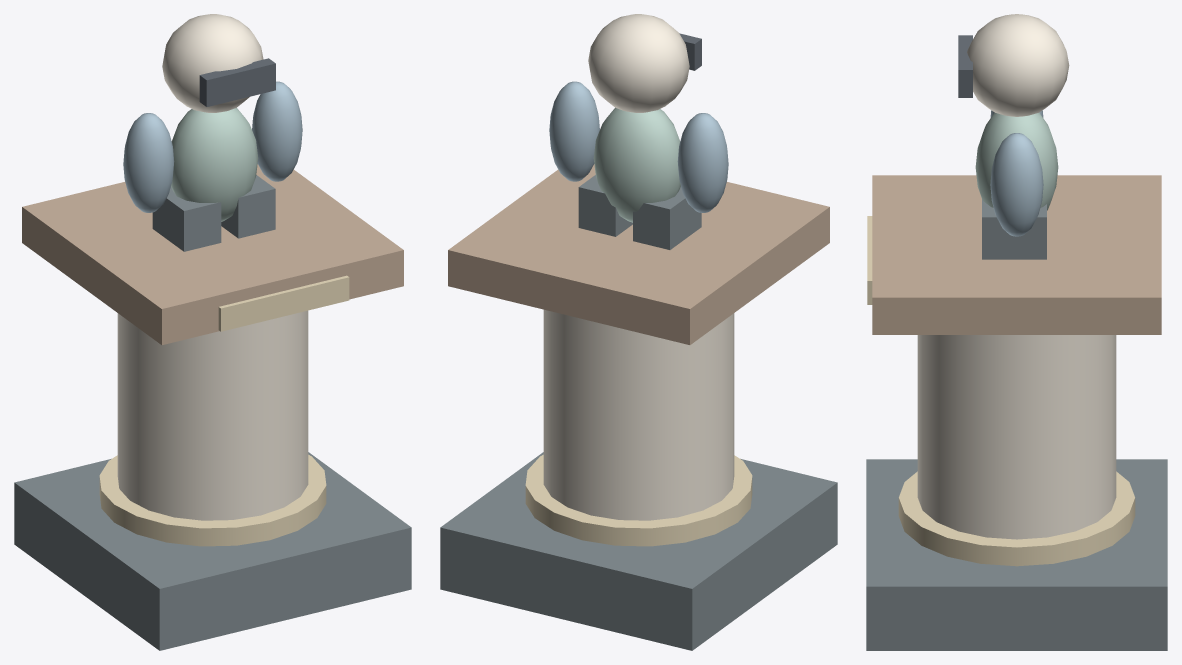
File: collectible_podium.glb
The picture shows the model from 3 angles, left to right: view 1: azimuth 30°, elevation 25°; view 2: azimuth 150°, elevation 25°; view 3: azimuth 270°, elevation 25°; orthographic projection. The views are drawn at different scales.
Visible parts, largest first — view 1: PlinthBase, FlutedStoneStem, TopShelf, BrassBaseRing, FigureTorso, Helmet, FigureArm_-0.13, FigureArm_0.13, NamePlate, FigureBoot_-0.055, Visor, FigureBoot_0.055; view 2: PlinthBase, TopShelf, FlutedStoneStem, Helmet, FigureTorso, BrassBaseRing, FigureArm_-0.13, FigureArm_0.13, FigureBoot_-0.055, FigureBoot_0.055; view 3: TopShelf, FlutedStoneStem, PlinthBase, Helmet, BrassBaseRing, FigureArm_0.13, FigureTorso, FigureBoot_0.055, Visor, NamePlate.
Part boxes in pixels (x1=…): PlinthBase: x1=14, y1=452, x2=411, y2=650; FlutedStoneStem: x1=117, y1=310, x2=308, y2=520; TopShelf: x1=22, y1=164, x2=403, y2=344; BrassBaseRing: x1=99, y1=454, x2=326, y2=546; FigureTorso: x1=171, y1=107, x2=258, y2=221; Helmet: x1=162, y1=14, x2=263, y2=112; FigureArm_-0.13: x1=123, y1=113, x2=174, y2=212; FigureArm_0.13: x1=252, y1=81, x2=302, y2=181; NamePlate: x1=218, y1=275, x2=349, y2=331; FigureBoot_-0.055: x1=152, y1=187, x2=221, y2=251; Visor: x1=199, y1=58, x2=275, y2=106; FigureBoot_0.055: x1=221, y1=175, x2=275, y2=238; PlinthBase: x1=440, y1=452, x2=837, y2=650; TopShelf: x1=448, y1=164, x2=829, y2=344; FlutedStoneStem: x1=543, y1=309, x2=734, y2=520; Helmet: x1=588, y1=14, x2=689, y2=112; FigureTorso: x1=593, y1=107, x2=680, y2=222; BrassBaseRing: x1=525, y1=454, x2=752, y2=546; FigureArm_-0.13: x1=677, y1=113, x2=728, y2=212; FigureArm_0.13: x1=549, y1=81, x2=599, y2=181; FigureBoot_-0.055: x1=633, y1=187, x2=701, y2=249; FigureBoot_0.055: x1=578, y1=175, x2=632, y2=236; TopShelf: x1=872, y1=175, x2=1161, y2=334; FlutedStoneStem: x1=917, y1=335, x2=1116, y2=539; PlinthBase: x1=866, y1=459, x2=1167, y2=650; Helmet: x1=967, y1=14, x2=1069, y2=116; BrassBaseRing: x1=898, y1=471, x2=1135, y2=566; FigureArm_0.13: x1=990, y1=133, x2=1043, y2=236; FigureTorso: x1=975, y1=113, x2=1058, y2=210; FigureBoot_0.055: x1=982, y1=199, x2=1046, y2=259; Visor: x1=958, y1=35, x2=972, y2=97; NamePlate: x1=867, y1=216, x2=872, y2=304.
Bounding box in the file's own units: 0.51 × 1.06 × 0.51.
